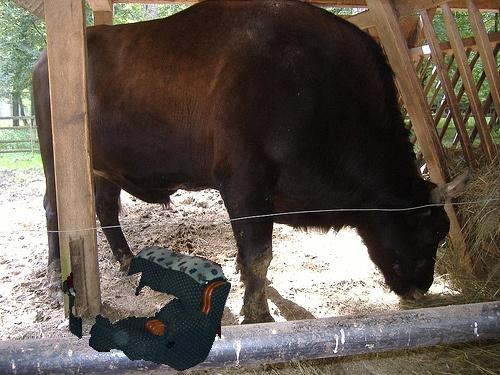tampered: (64, 247, 231, 371)
